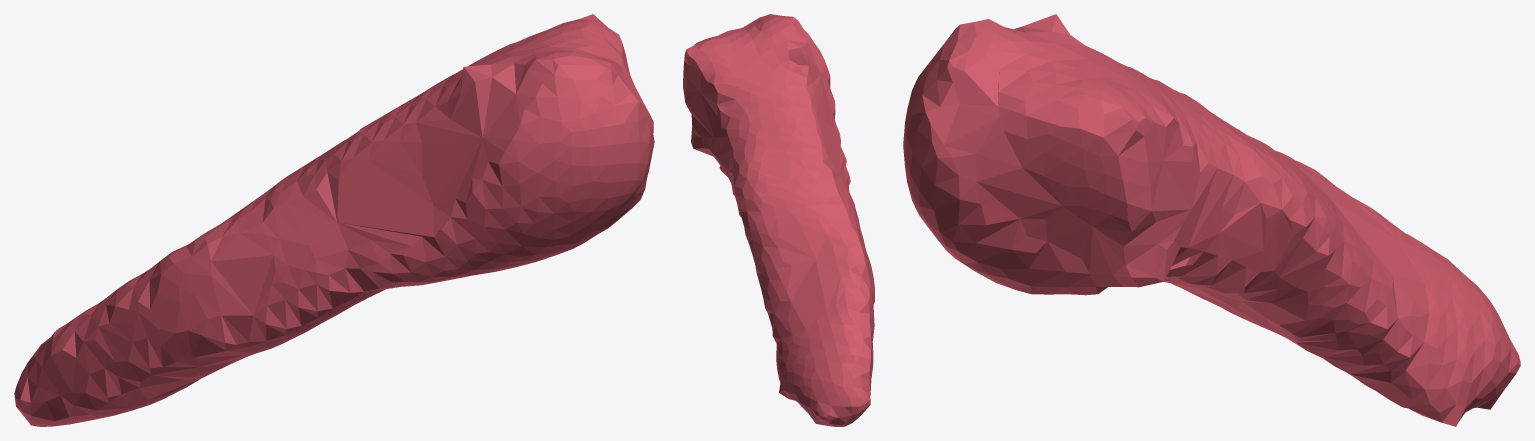
Rendered from Model_553_RH__Cuneate_nucleus_(Cu).obj.
The picture shows the model from 3 angles, left to right: view 1: azimuth 30°, elevation 25°; view 2: azimuth 150°, elevation 25°; view 3: azimuth 270°, elevation 25°; orthographic projection. The views are drawn at different scales.
Size of the model in its own units: 2.25 by 2.17 by 2.25.
